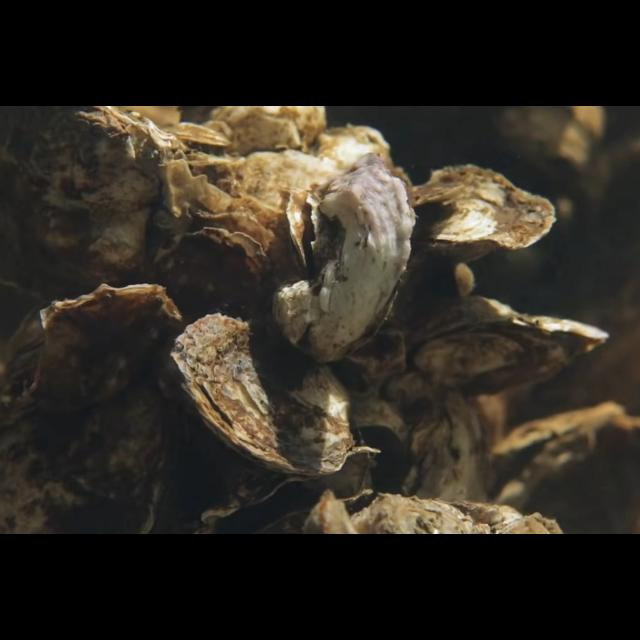Oyster-Closed: (0, 107, 216, 361), (0, 284, 184, 534), (171, 312, 357, 478), (273, 152, 417, 364), (400, 163, 558, 284), (399, 390, 496, 534), (153, 226, 274, 328)
Oyster-Open: (485, 403, 640, 535), (408, 296, 606, 398), (200, 447, 382, 535)
